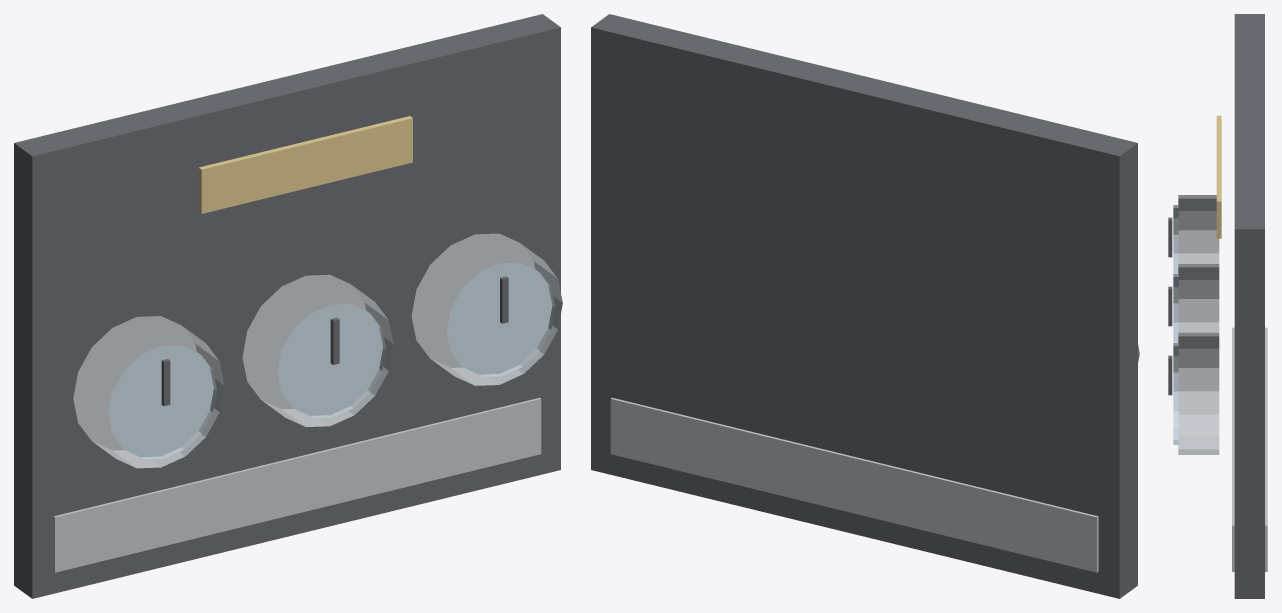
Rendered from bank-vault-heist-kit-time-lock-panel-30789532__25078.glb.
3 renders of one model, left to right at view 1: azimuth 30°, elevation 25°; view 2: azimuth 150°, elevation 25°; view 3: azimuth 270°, elevation 25°, orthographic. The views are drawn at different scales.
Visible parts, largest first — view 1: time-lock-panel; view 2: time-lock-panel; view 3: time-lock-panel.
Boxes of the visible parts, x1=… form: time-lock-panel: x1=14, y1=14, x2=562, y2=598; time-lock-panel: x1=591, y1=14, x2=1139, y2=598; time-lock-panel: x1=1168, y1=14, x2=1267, y2=598.
Bounding box in the file's own units: 0.5 × 0.4 × 0.0975.
